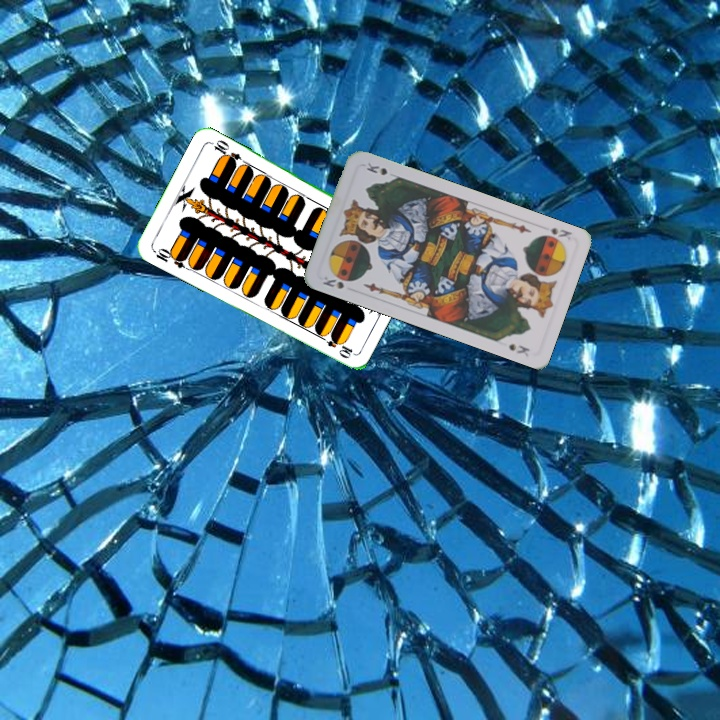E10: (149, 244, 189, 271)
SK: (545, 223, 575, 243), (319, 272, 347, 292)
